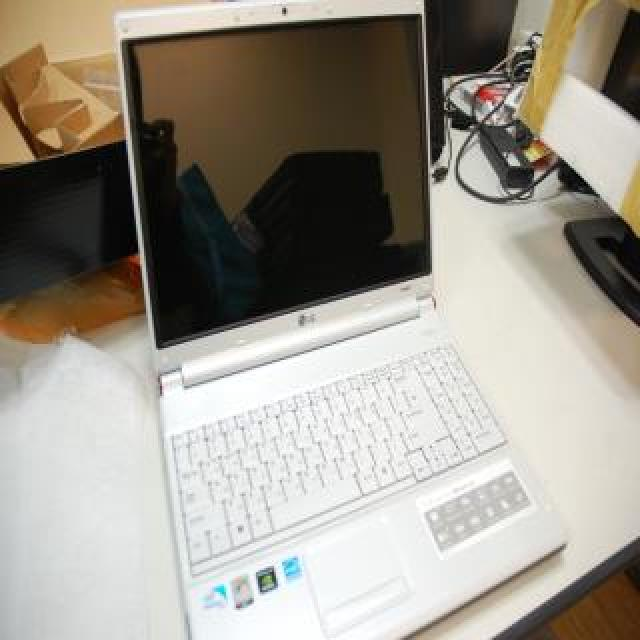laptop_computer: (113, 0, 565, 639)
